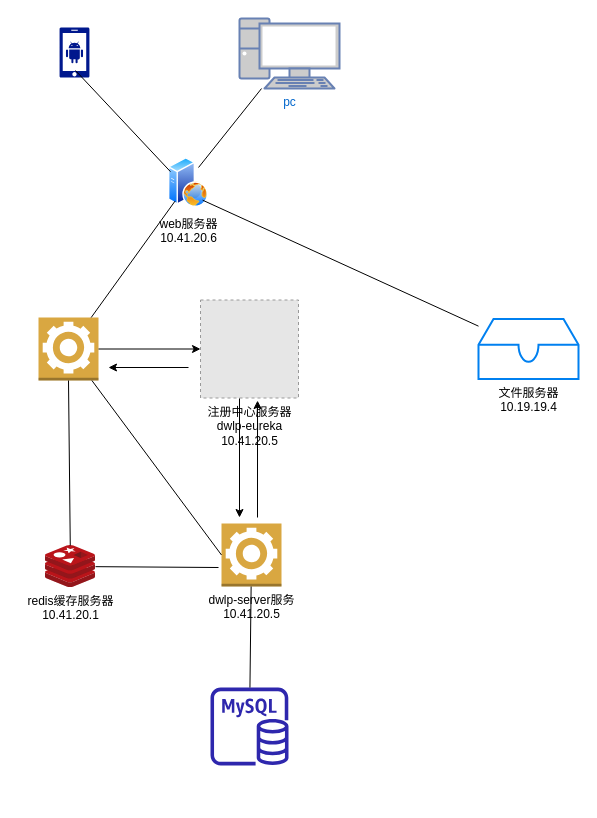
Some shapes in this 597 by 818 pixel diagram are drawn without their labels. Grey dashed boxes stand in for pictures. Each missing label, with the box of its shape:
dwlp-front-web服务 10.41.20.5: (38, 316, 98, 380)
MySQL数据库服务器 10.41.20.40: (210, 687, 288, 765)
手机: (59, 27, 89, 77)
